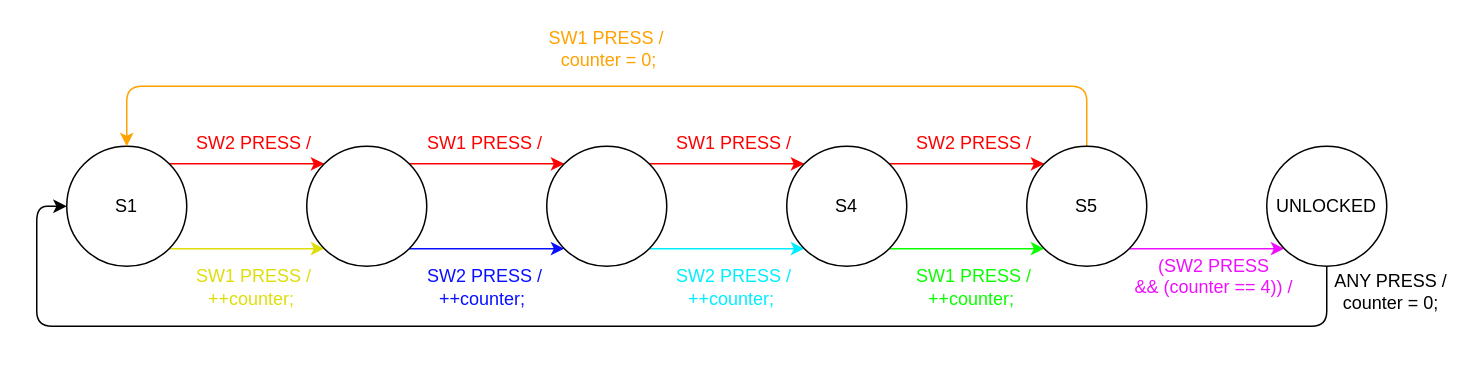
This 1478x365 diagram has some shape labels left out. Each missing label, with the centre of its shape:
S2: [366,205]
S3: [606,205]
